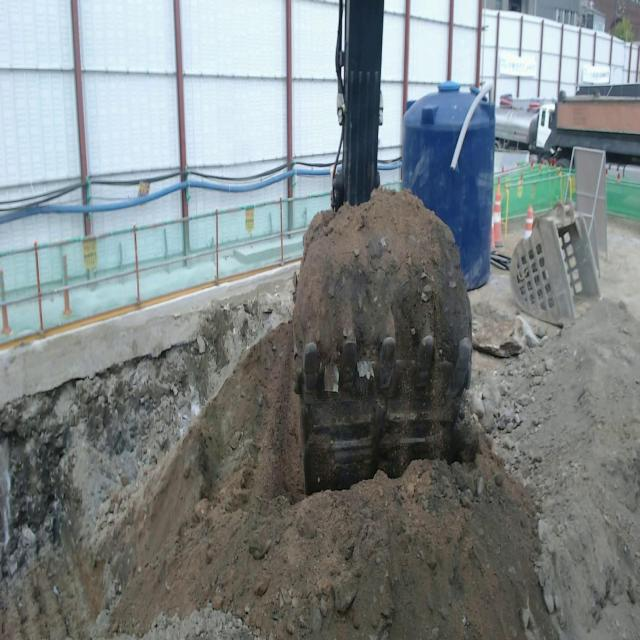red-sand: (0, 323, 551, 639), (293, 187, 471, 363)
white-sand: (475, 300, 640, 639)
